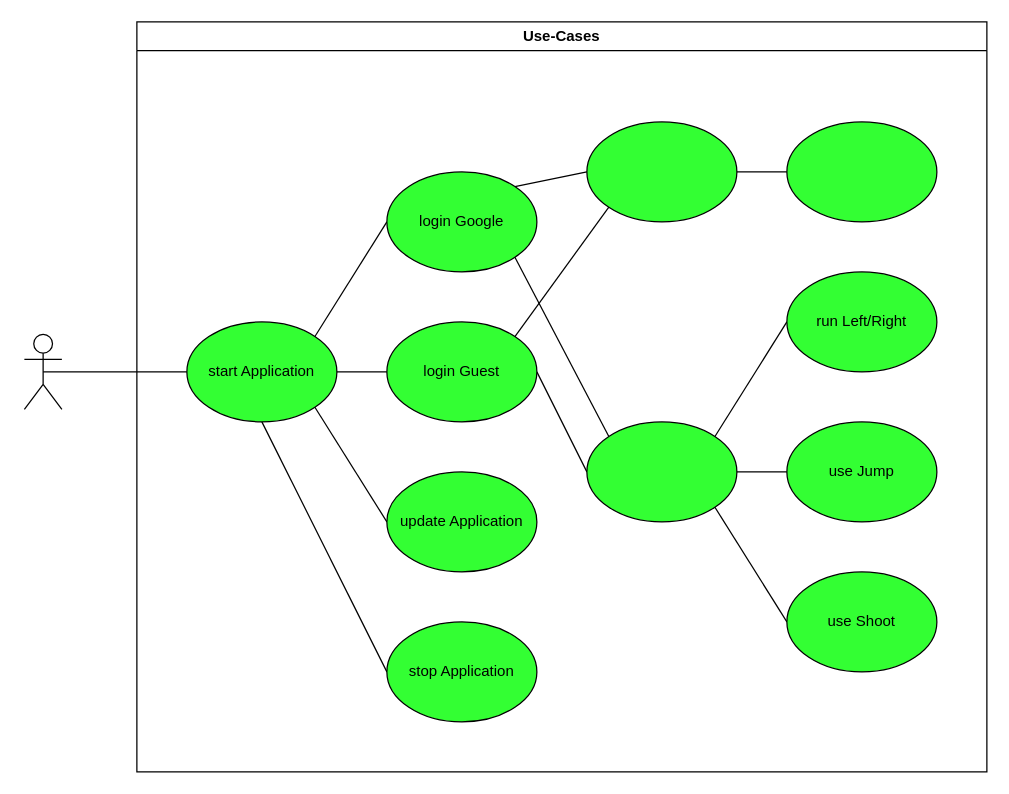
This 1009x794 diagram has some shape labels left out. The shapes that lost their labels are listed below. From the top down, each one's centre as x and y in pixels, then its label:
At point 661,171: "change Settings".
At point 861,171: "choose Settings to change".
At point 42,371: "Player".
At point 661,471: "play Game".
